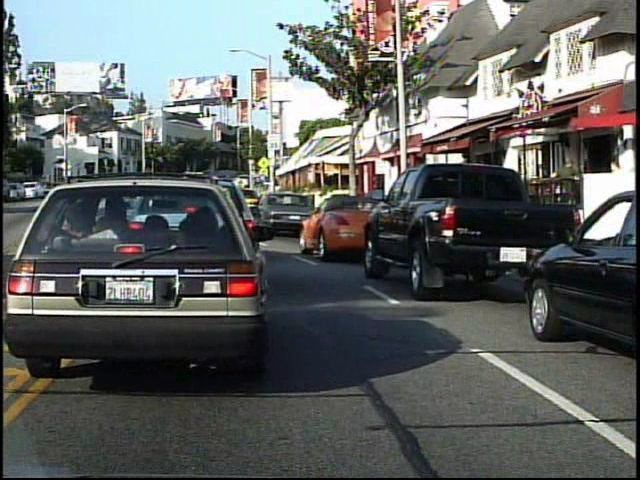person: (554, 152, 584, 225)
